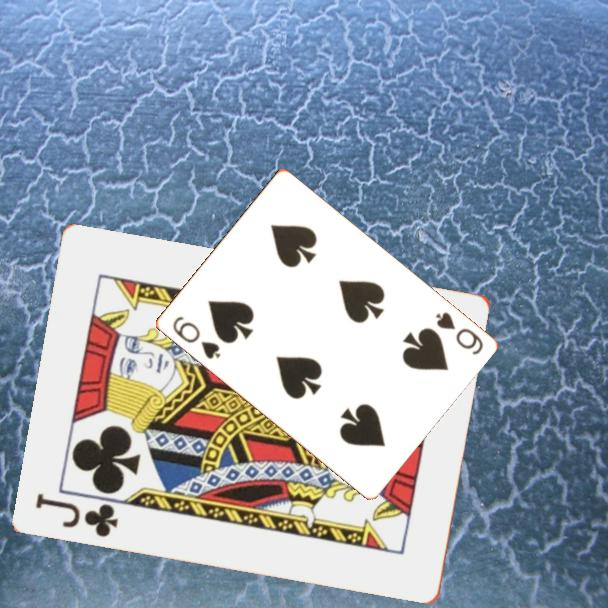c11: (32, 489, 122, 540)
s06: (431, 308, 486, 358), (168, 313, 223, 362)
